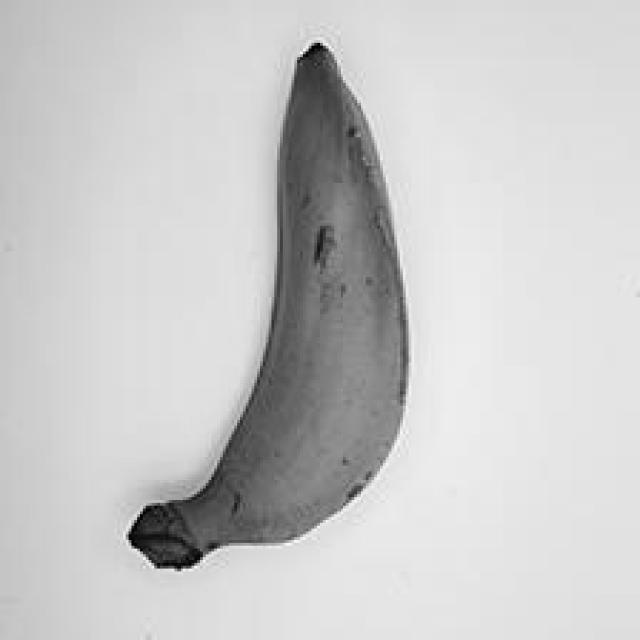Raw: (92, 26, 436, 602)
